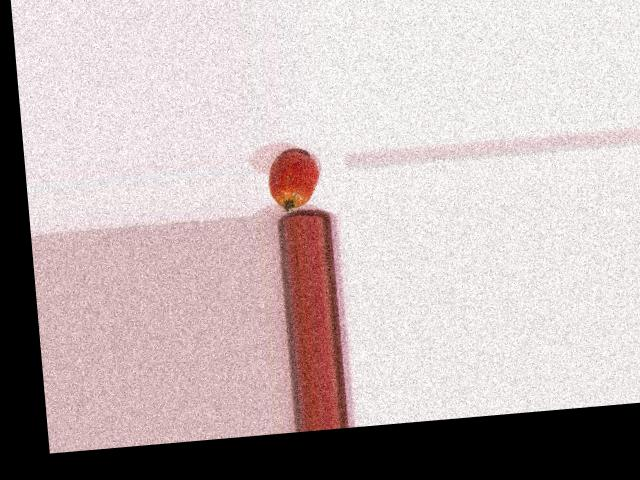tomato: (267, 150, 321, 210)
